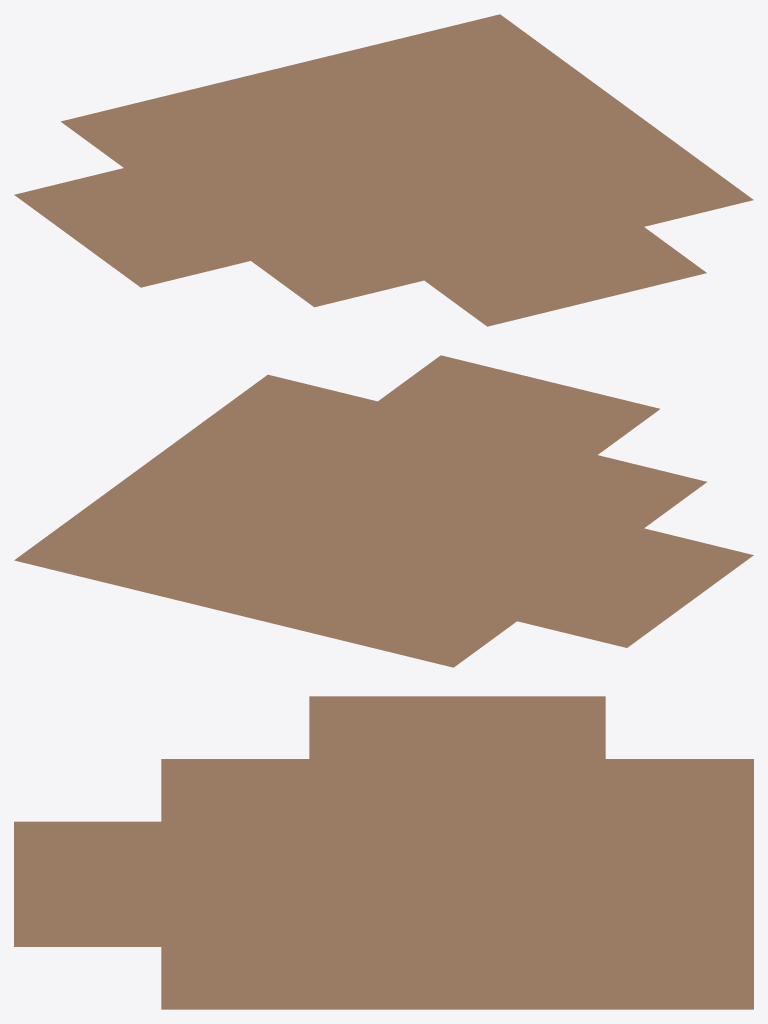
File: N05_Piso_Cocina.fbx
3 renders of one model, top to bottom at view 1: azimuth 30°, elevation 25°; view 2: azimuth 150°, elevation 25°; view 3: azimuth 270°, elevation 25°, orthographic. The views are drawn at different scales.
Visible parts, largest first — view 1: N05_Piso_Cocina; view 2: N05_Piso_Cocina; view 3: N05_Piso_Cocina.
Boxes of the visible parts, x1,y1,x2,y2 form: N05_Piso_Cocina: [14, 14, 753, 326]; N05_Piso_Cocina: [14, 355, 753, 667]; N05_Piso_Cocina: [14, 696, 753, 1009].
Size of the model in its own units: 500 by 8.14e-05 by 499.
Materials: 1 (1 with a texture image).
